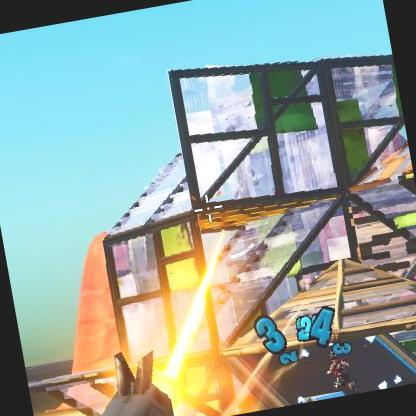person: (322, 349, 356, 396), (239, 166, 261, 199)
